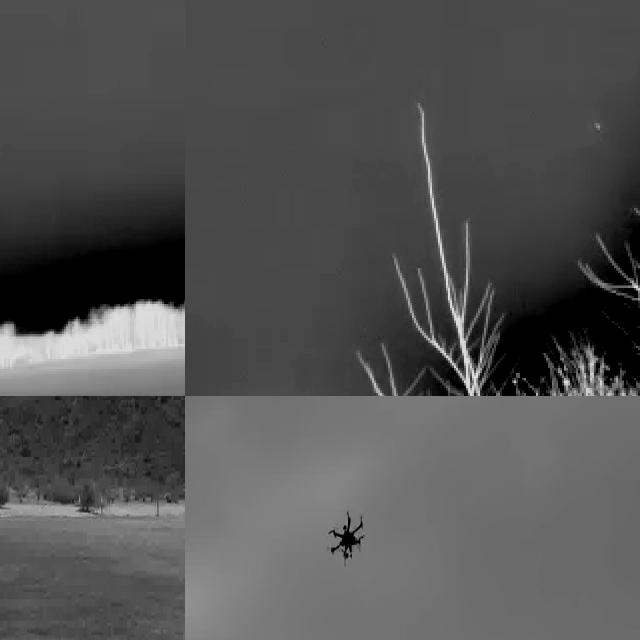0: (582, 114, 610, 147)
drone: (327, 506, 370, 564)
